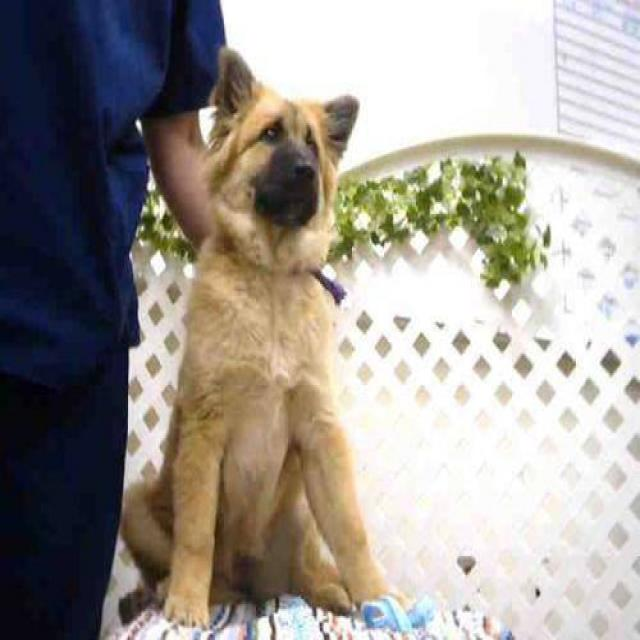dog: (118, 46, 386, 629)
